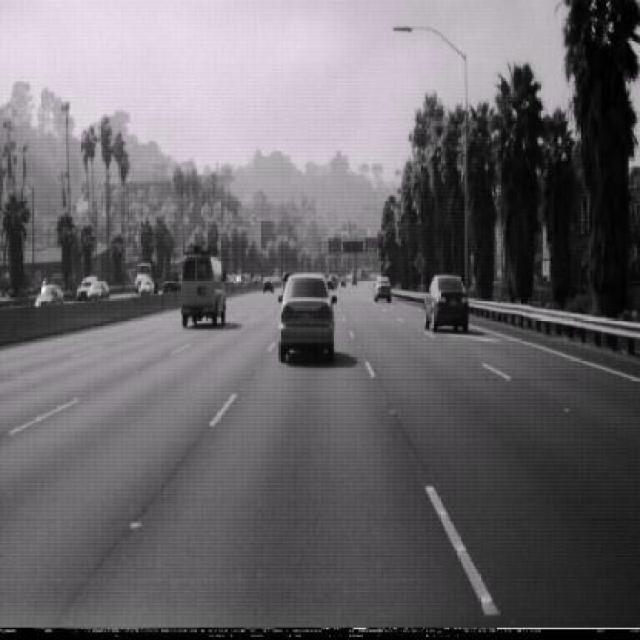laneEnds: (412, 251, 426, 275)
